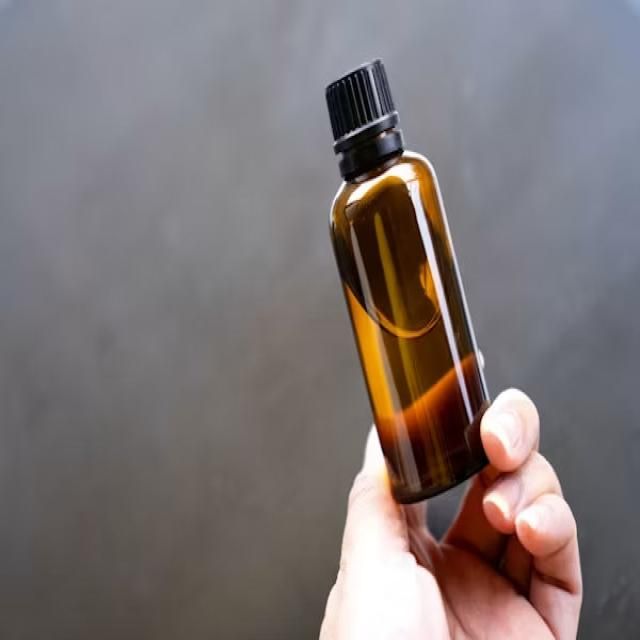Bottle: (327, 61, 489, 502)
